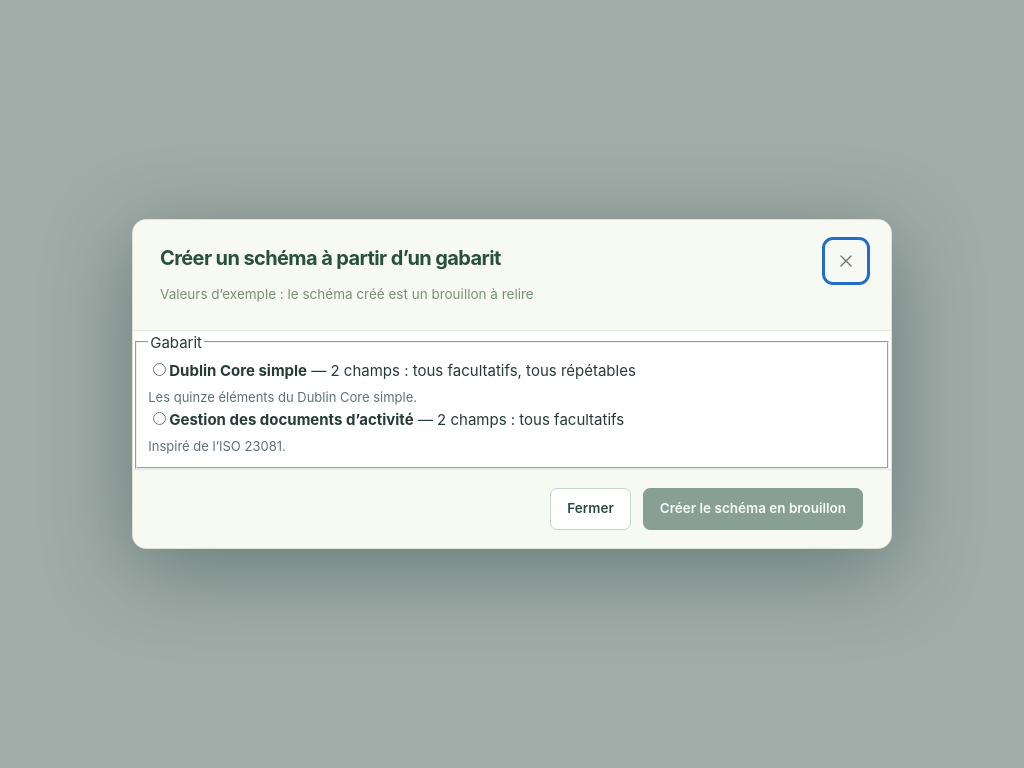
Scenario: un refus du serveur reste affiché dans la fenêtre
Click the radio button labelled "Dublin Core simple": (160, 370) top-left (153, 363), bottom-right (166, 376)
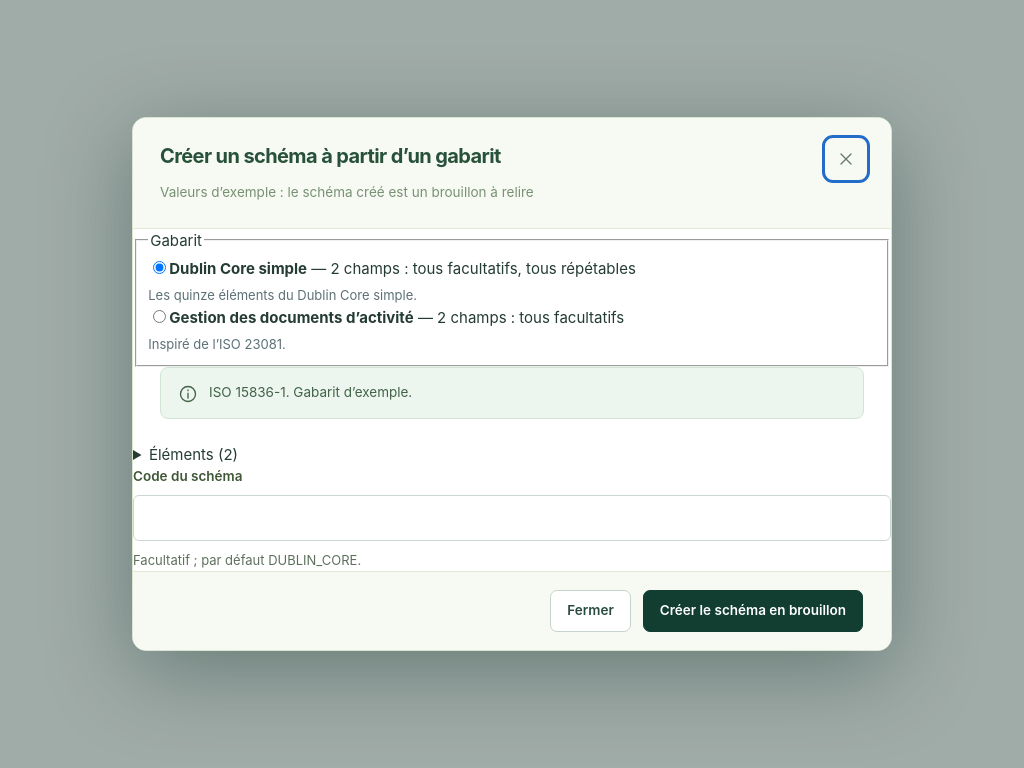
Click the button "Créer le schéma en brouillon": (753, 611) top-left (643, 590), bottom-right (863, 632)
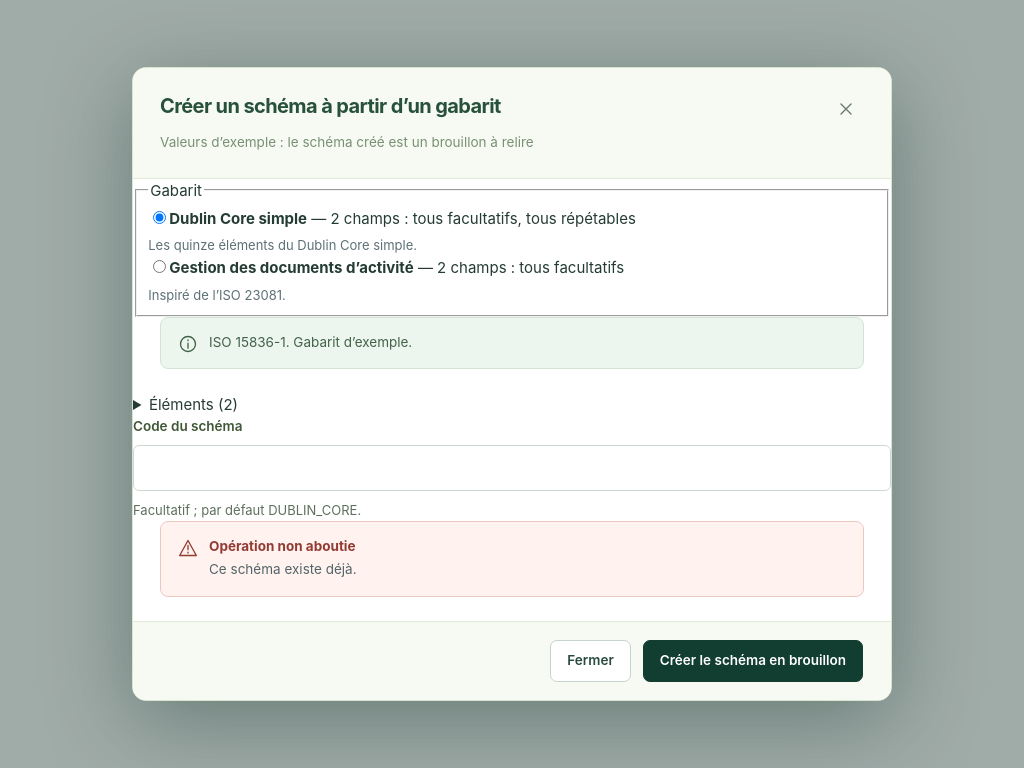
Now the message "Opération non aboutie Ce schéma existe déjà." is shown, box top-left (160, 521), bottom-right (864, 597)
